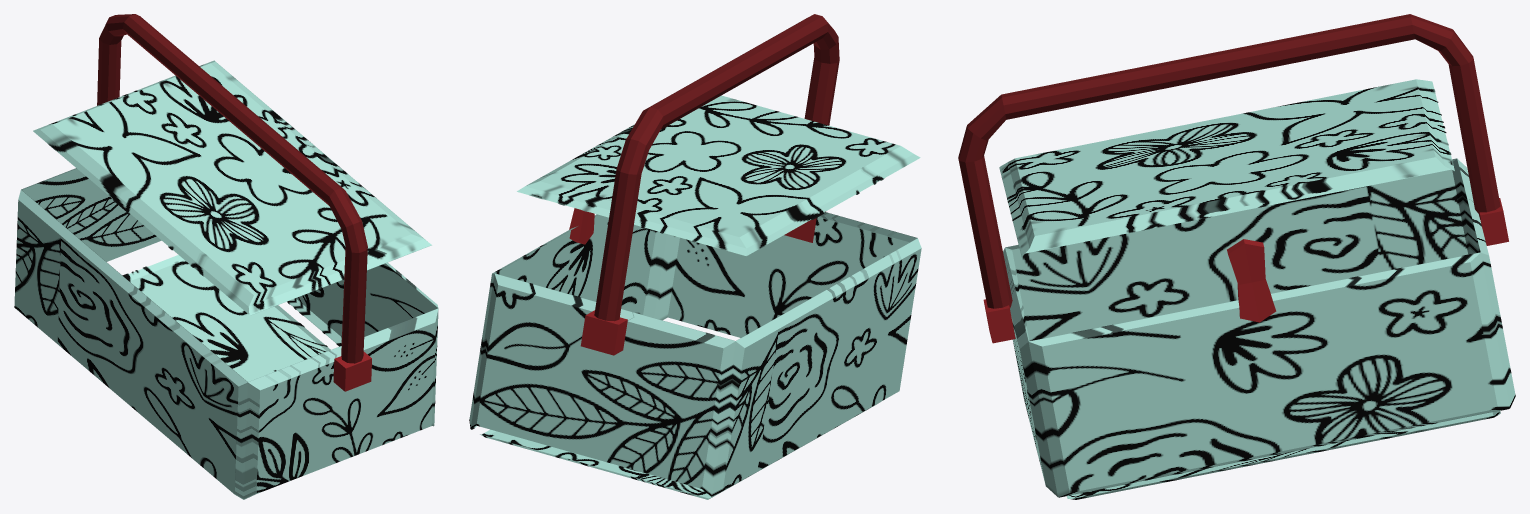
Rendered from sewingKit.fbx.
3 renders of one model, left to right at view 1: azimuth 30°, elevation 25°; view 2: azimuth 150°, elevation 25°; view 3: azimuth 270°, elevation 25°, orthographic. The views are drawn at different scales.
Parts seen in each view (by area): view 1: Cube.004, Cube.001, Cube.002; view 2: Cube.004, Cube.001, Cube.003, Cube; view 3: Cube.004, Cube.001, Cube, Cube.002, Cube.003.
Boxes of the visible parts, x1,y1,x2,y2 form: Cube.004: [14, 60, 438, 499]; Cube.001: [97, 14, 367, 363]; Cube.002: [333, 351, 371, 391]; Cube.004: [469, 95, 921, 499]; Cube.001: [594, 14, 839, 321]; Cube.003: [580, 310, 627, 355]; Cube: [569, 208, 594, 244]; Cube.004: [999, 79, 1515, 499]; Cube.001: [958, 14, 1500, 308]; Cube: [1227, 239, 1276, 322]; Cube.002: [983, 299, 1015, 343]; Cube.003: [1479, 198, 1508, 245].
Size of the model in its own units: 185 by 252 by 302.
3 materials, 1 textured.
